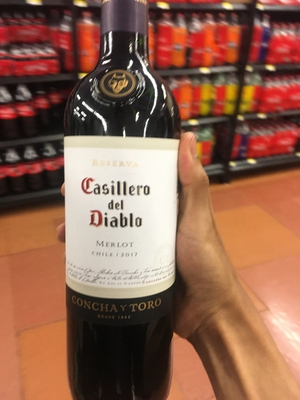casillero del diablo merlot: (53, 22, 191, 400)
